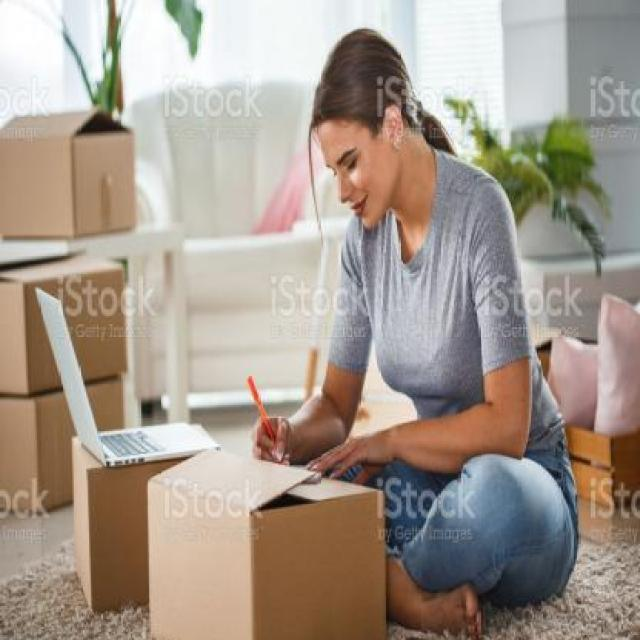box: (142, 442, 402, 640), (61, 437, 239, 610), (0, 376, 137, 554), (0, 91, 152, 248), (0, 248, 138, 401)
